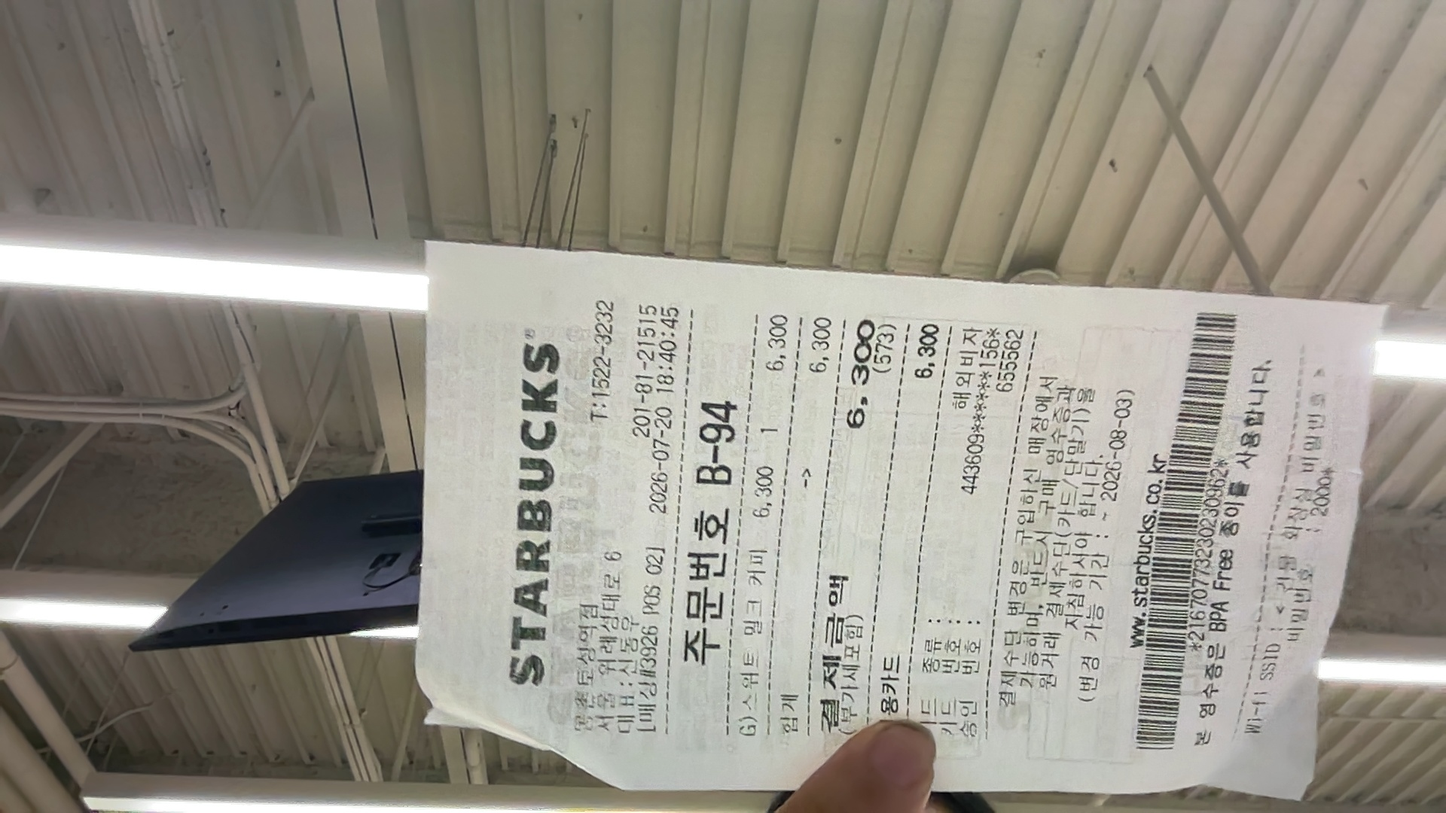Paper: (1312, 653, 1446, 682)
